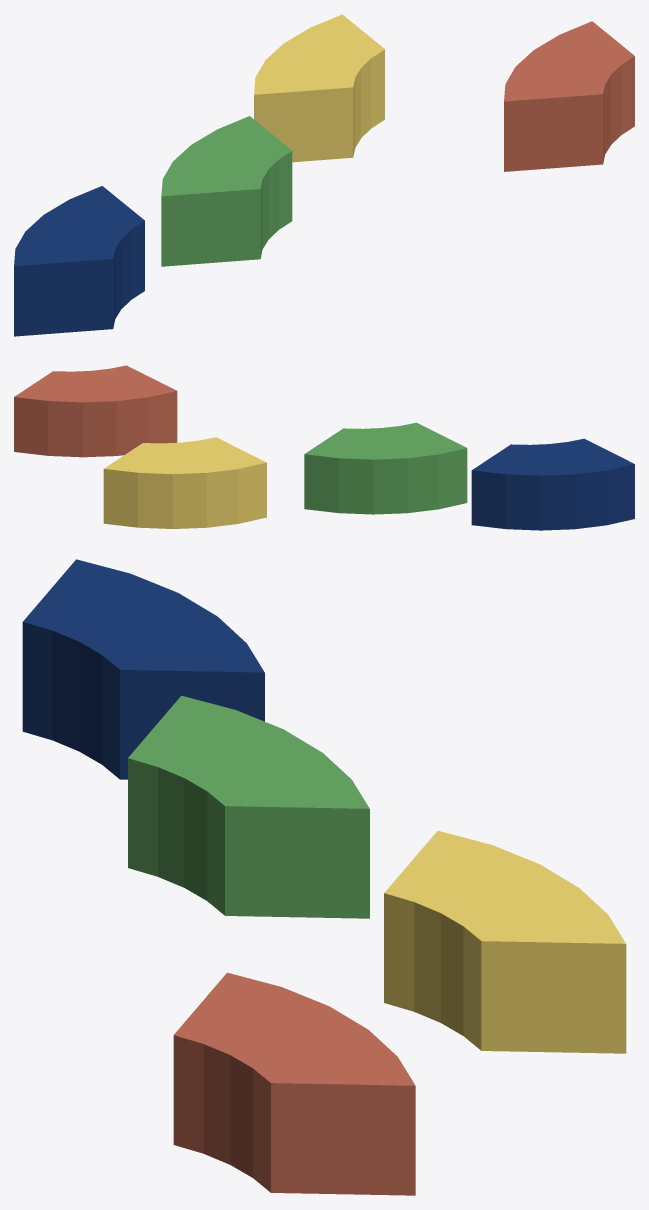
File: puff.fbx
3 views of the same model, one above another, from view 1: azimuth 30°, elevation 25°; view 2: azimuth 150°, elevation 25°; view 3: azimuth 270°, elevation 25° (orthographic). The views are drawn at different scales.
Parts seen in each view (by area): view 1: Cube.002, Cube; view 2: Cube.002, Cube; view 3: Cube.002, Cube.
Part boxes in pixels (left/top/right/bottom): Cube.002: left=161, top=14, right=634, bottom=266; Cube: left=14, top=186, right=144, bottom=336; Cube.002: left=14, top=365, right=467, bottom=528; Cube: left=471, top=438, right=634, bottom=530; Cube.002: left=128, top=695, right=626, bottom=1195; Cube: left=22, top=559, right=264, bottom=779.
Size of the model in its own units: 4.67 by 0.4768 by 2.27.
